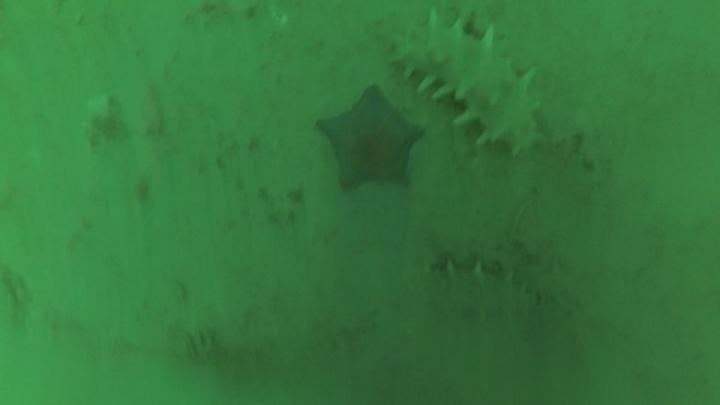holothurian: (388, 13, 544, 159), (427, 228, 579, 297), (418, 254, 563, 323)
starfish: (314, 84, 426, 194)
